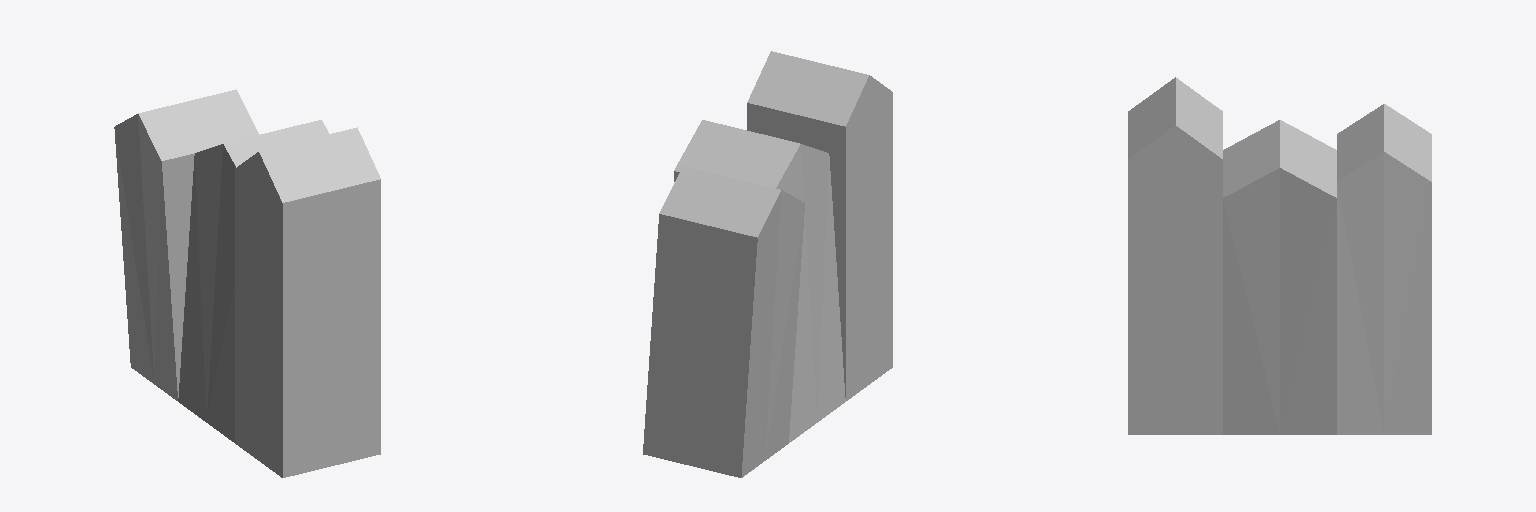
The model's file is spikes.obj.
3 renders of one model, left to right at view 1: azimuth 30°, elevation 25°; view 2: azimuth 150°, elevation 25°; view 3: azimuth 270°, elevation 25°, orthographic.
Parts seen in each view (by area): view 1: cuboid, cuboid.001, cuboid.002; view 2: cuboid.001, cuboid, cuboid.002; view 3: cuboid.002, cuboid, cuboid.001.
Part boxes in pixels (x1,y1,x2,y2): cuboid: (235, 127, 380, 477); cuboid.001: (114, 89, 258, 400); cuboid.002: (178, 120, 328, 442); cuboid.001: (643, 166, 804, 477); cuboid: (747, 51, 892, 400); cuboid.002: (674, 120, 845, 442); cuboid.002: (1223, 120, 1336, 434); cuboid: (1128, 77, 1222, 434); cuboid.001: (1337, 104, 1431, 434).
Size of the model in its own units: 0.5 by 1.12 by 1.